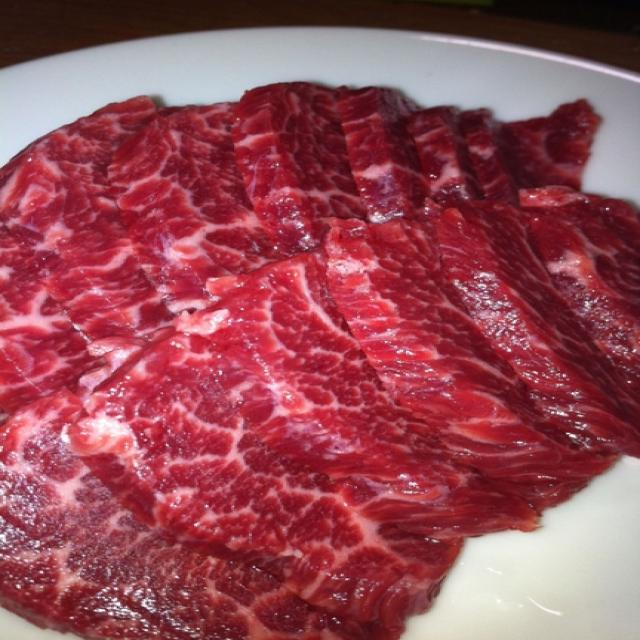刺身生食: (9, 50, 624, 631)
